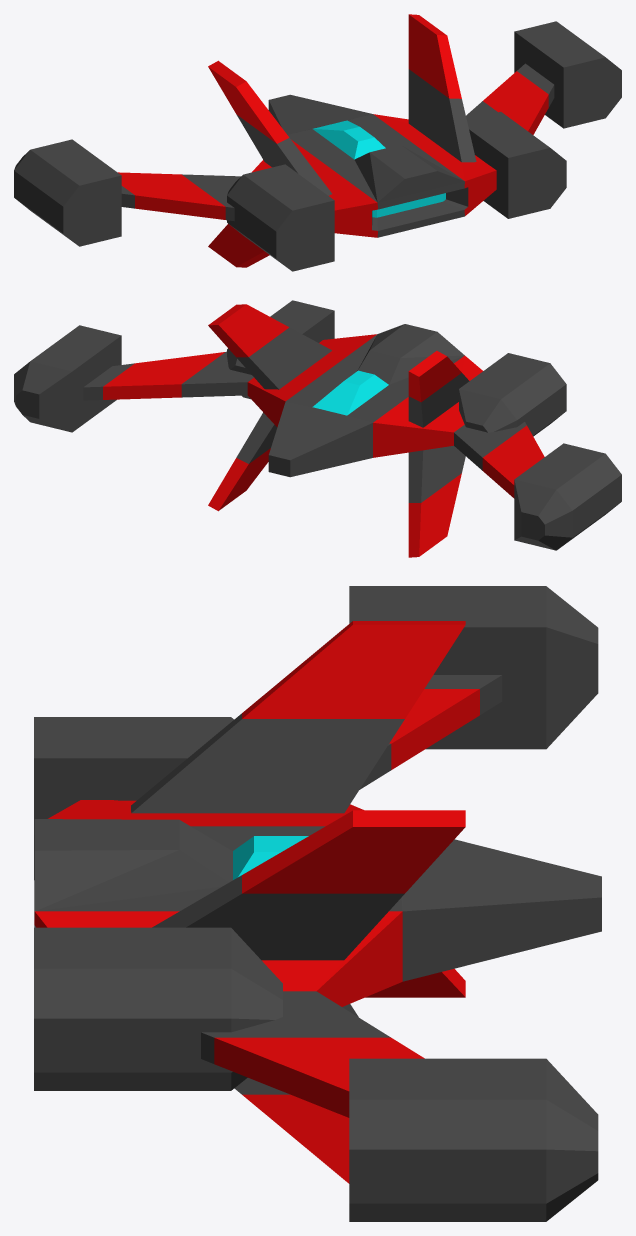
The model's file is Boss_TurretJet.fbx.
The picture shows the model from 3 angles, top to bottom: view 1: azimuth 30°, elevation 25°; view 2: azimuth 150°, elevation 25°; view 3: azimuth 270°, elevation 25°; orthographic projection. The views are drawn at different scales.
Parts seen in each view (by area): view 1: Body, TurretBase1, TurretBase2; view 2: Body, TurretBase1, TurretBase2; view 3: Body, TurretBase1, TurretBase2.
Part boxes in pixels (x1,y1,x2,y2): Body: (118, 14, 554, 267); TurretBase1: (14, 21, 621, 246); TurretBase2: (227, 111, 566, 271); Body: (83, 304, 544, 557); TurretBase1: (14, 325, 621, 550); TurretBase2: (227, 300, 566, 436); Body: (34, 621, 601, 1183); TurretBase1: (349, 586, 598, 1221); TurretBase2: (34, 717, 282, 1090).
Bounding box in the file's own units: 33.26 × 10.61 × 14.64.
